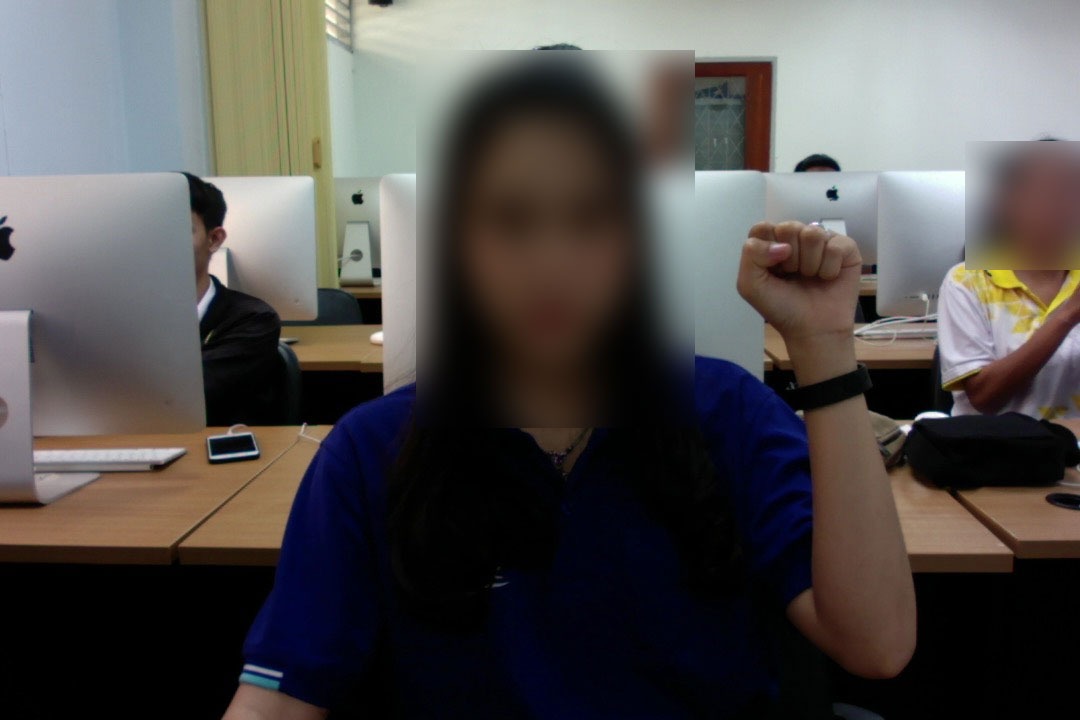sor: (730, 214, 866, 356)
